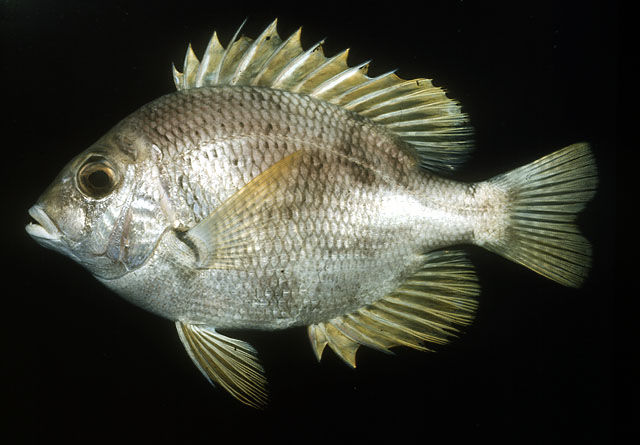fish: (24, 18, 600, 408)
